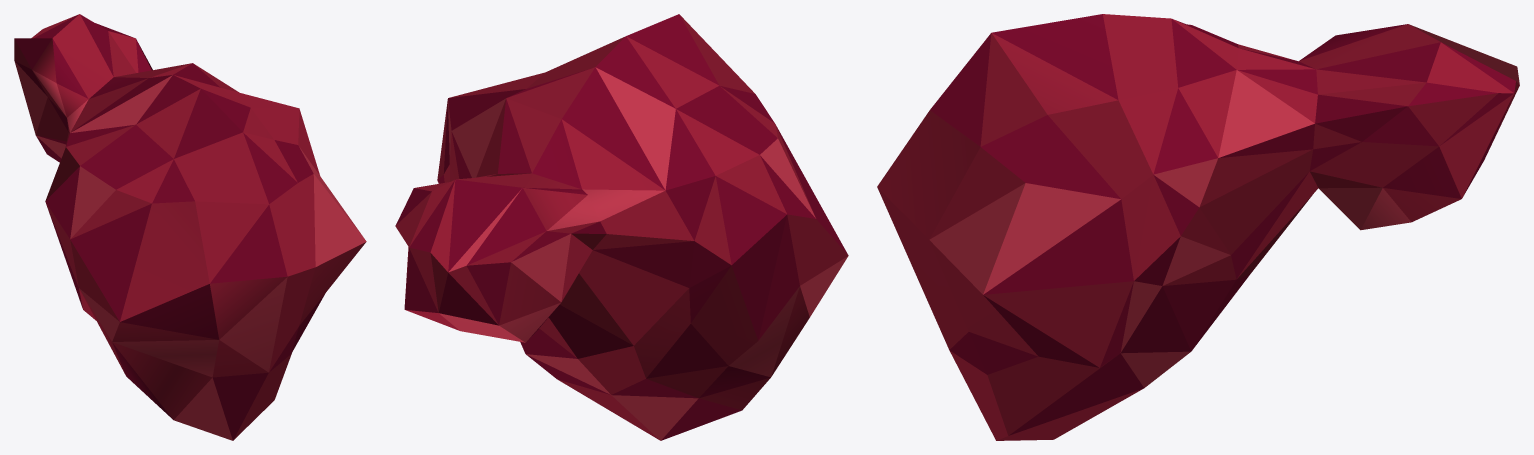
File: Bladder_01.fbx
3 renders of one model, left to right at view 1: azimuth 30°, elevation 25°; view 2: azimuth 150°, elevation 25°; view 3: azimuth 270°, elevation 25°, orthographic. The views are drawn at different scales.
Parts seen in each view (by area): view 1: geo_bladder; view 2: geo_bladder; view 3: geo_bladder.
Part boxes in pixels (x1,y1,x2,y2): geo_bladder: (14, 14, 366, 440); geo_bladder: (395, 14, 848, 440); geo_bladder: (877, 14, 1519, 440).
Bounding box in the file's own units: 83.97 × 94.75 × 128.
